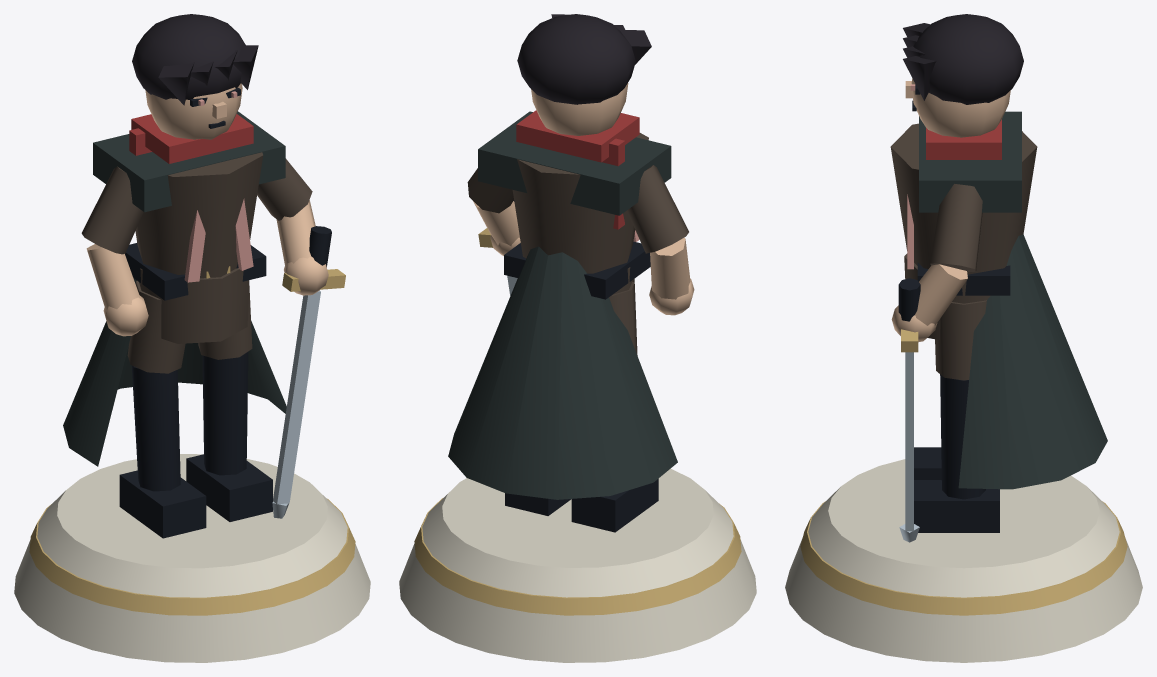
File: mikasa.glb
The picture shows the model from 3 angles, left to right: view 1: azimuth 30°, elevation 25°; view 2: azimuth 150°, elevation 25°; view 3: azimuth 270°, elevation 25°; orthographic projection.
Visible parts, largest first — view 1: Placeholder Mikasa Ackerman; view 2: Placeholder Mikasa Ackerman; view 3: Placeholder Mikasa Ackerman.
Boxes of the visible parts, x1,y1,x2,y2 form: Placeholder Mikasa Ackerman: [14, 14, 370, 662]; Placeholder Mikasa Ackerman: [399, 14, 756, 662]; Placeholder Mikasa Ackerman: [785, 14, 1142, 662].
Bounding box in the file's own units: 0.54 × 0.9438 × 0.54.
